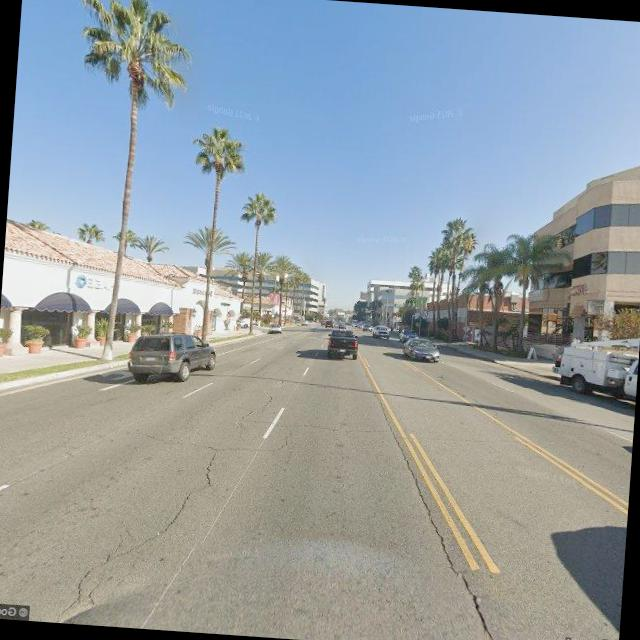crack: (363, 399, 517, 640), (59, 437, 227, 627), (280, 414, 391, 438), (236, 379, 282, 434)
